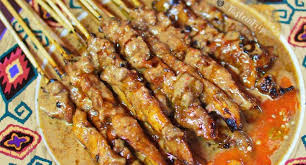sate: (36, 5, 300, 165)
